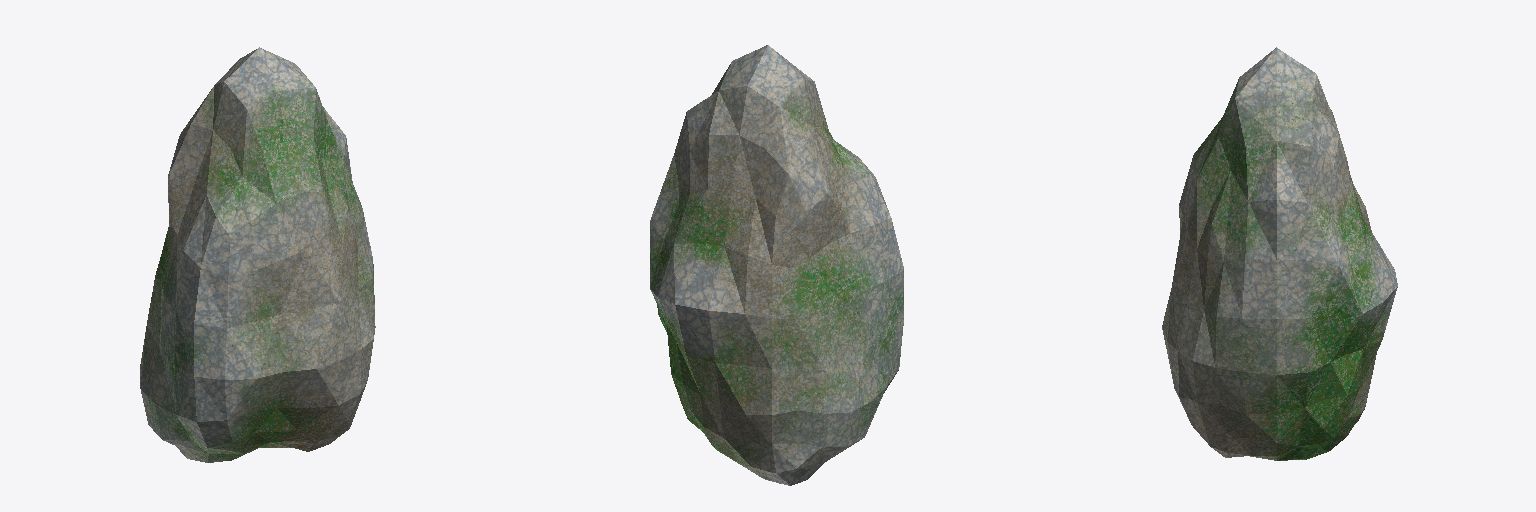
The picture shows the model from 3 angles: view 1: azimuth 30°, elevation 25°; view 2: azimuth 150°, elevation 25°; view 3: azimuth 270°, elevation 25°; orthographic projection.
Parts seen in each view (by area): view 1: Stone_F_3_LOD1; view 2: Stone_F_3_LOD1; view 3: Stone_F_3_LOD1.
Part boxes in pixels (x1,y1,x2,y2): Stone_F_3_LOD1: (140,47,375,462); Stone_F_3_LOD1: (650,45,903,485); Stone_F_3_LOD1: (1162,47,1397,460).
Size of the model in its own units: 2.5 by 4.85 by 2.48.
Materials: 1 (1 with a texture image).